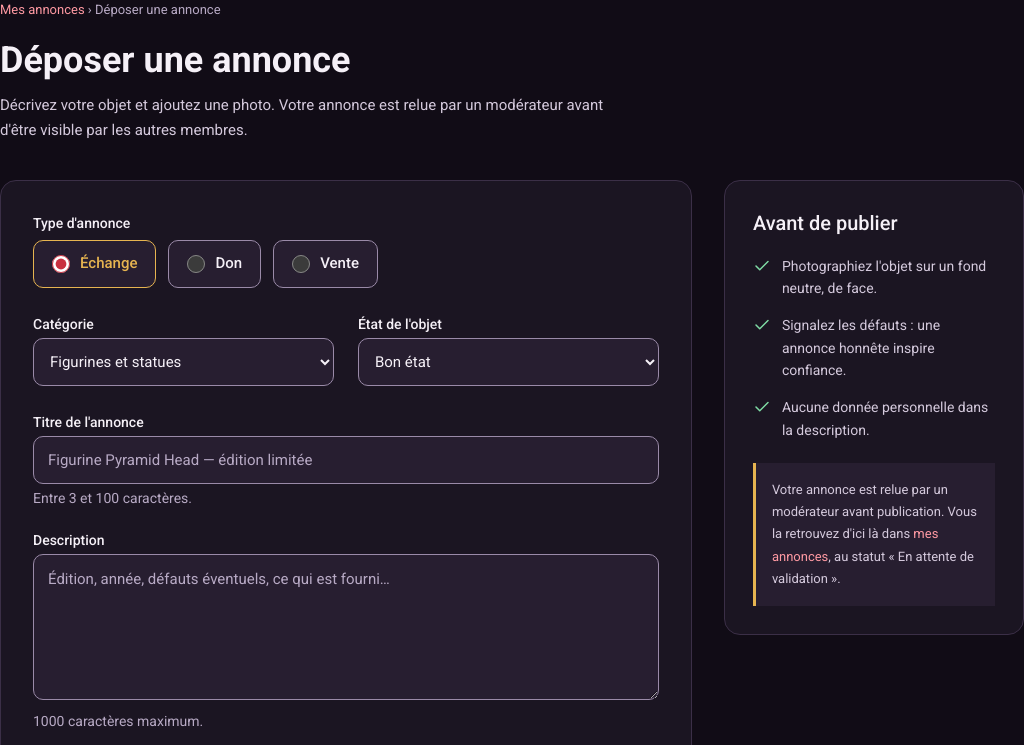
Test: ListingForm › depot › refuse une vente au prix « abc » sans interroger l API
Click the radio button labelled "Vente".
click(301, 264)  # box [292,254,310,272]
(page scrolled)
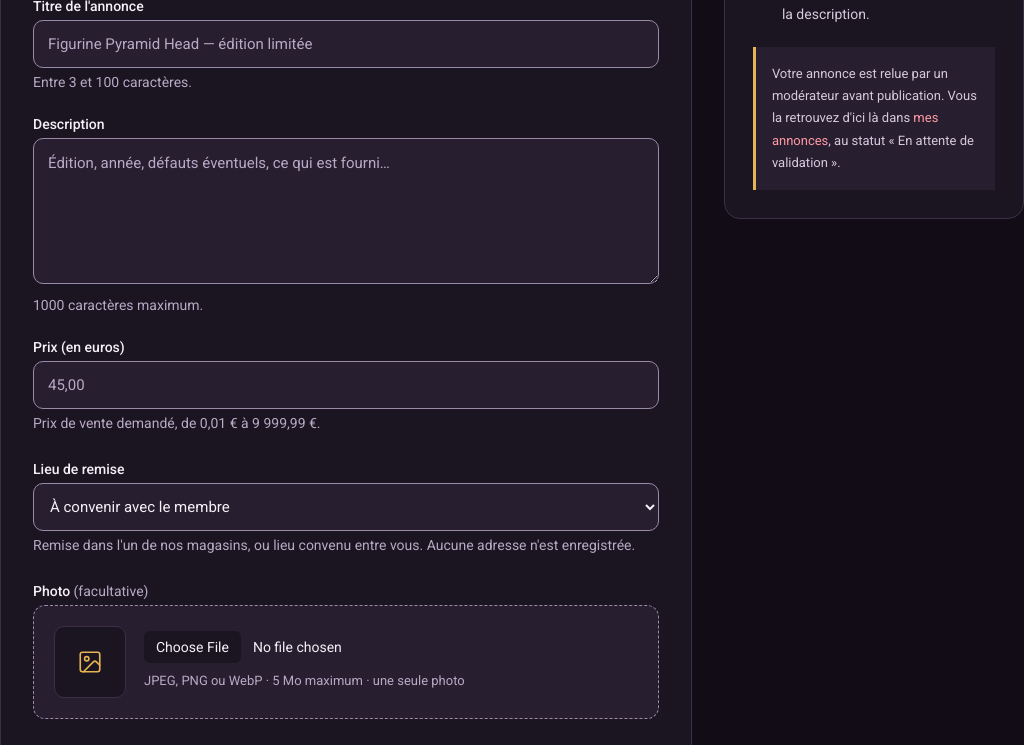
Type "abc" into the field labelled "Prix (en euros)".
click(346, 384); type("abc")  # box [33,360,659,408]
(page scrolled)
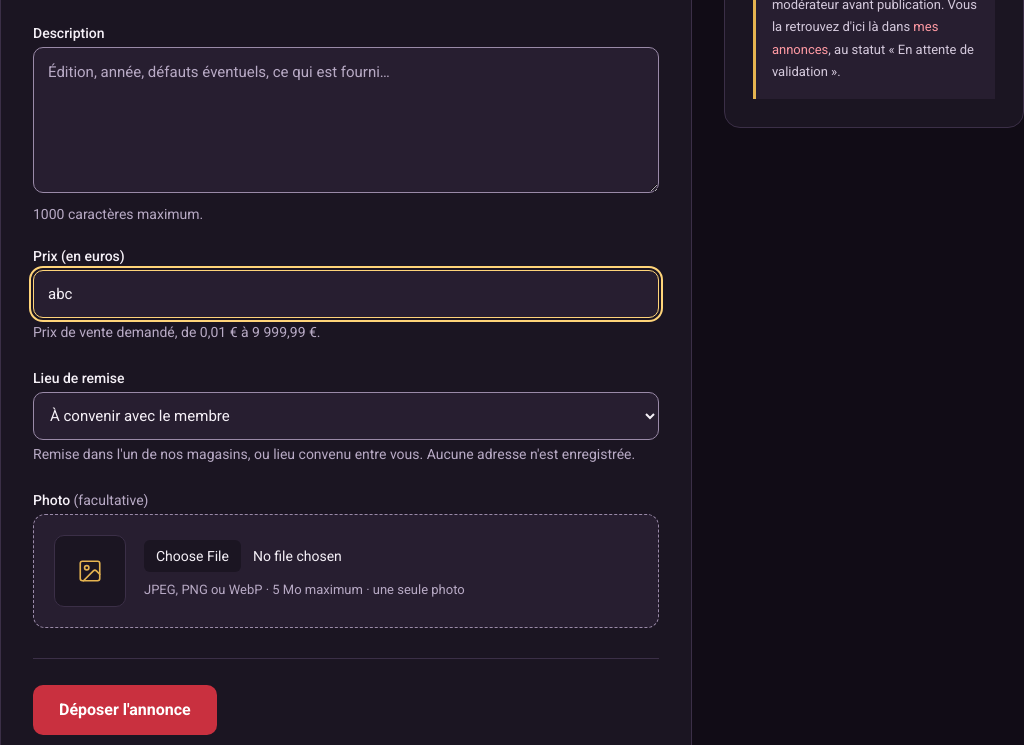
Click the button "Déposer l'annonce".
click(125, 710)  # box [33,684,217,734]
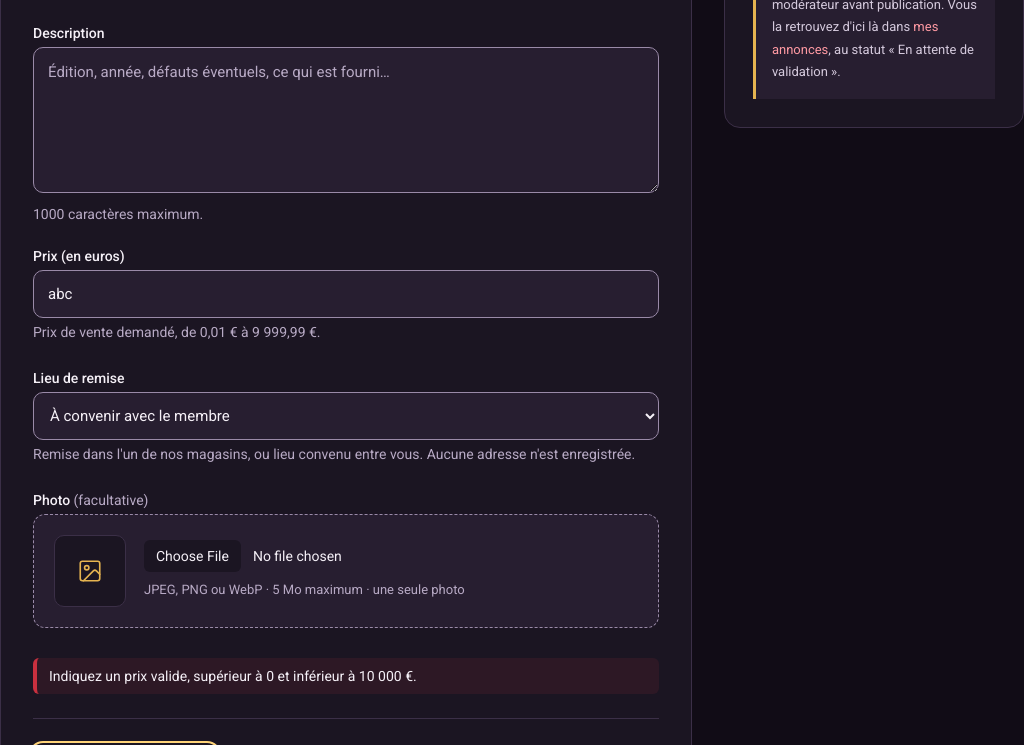
expect the message shows "Indiquez un prix valide": met, box [49,668,417,684]
